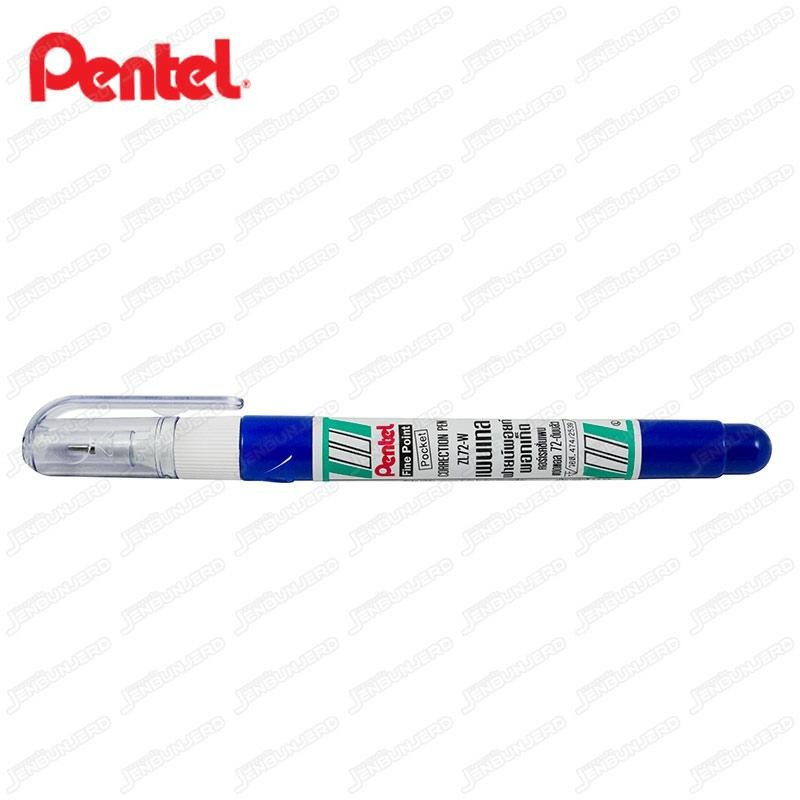Correction_fluid: (7, 384, 778, 490)
